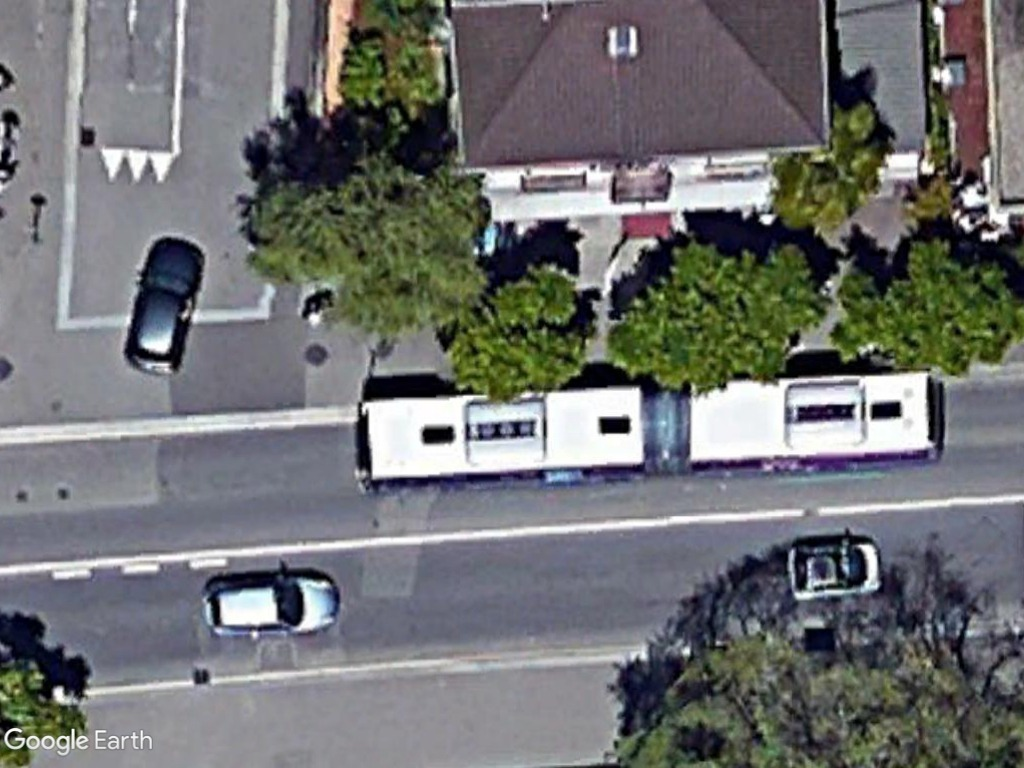bus: (348, 377, 653, 493), (677, 364, 952, 469)
car: (121, 235, 207, 384), (198, 572, 341, 642)
